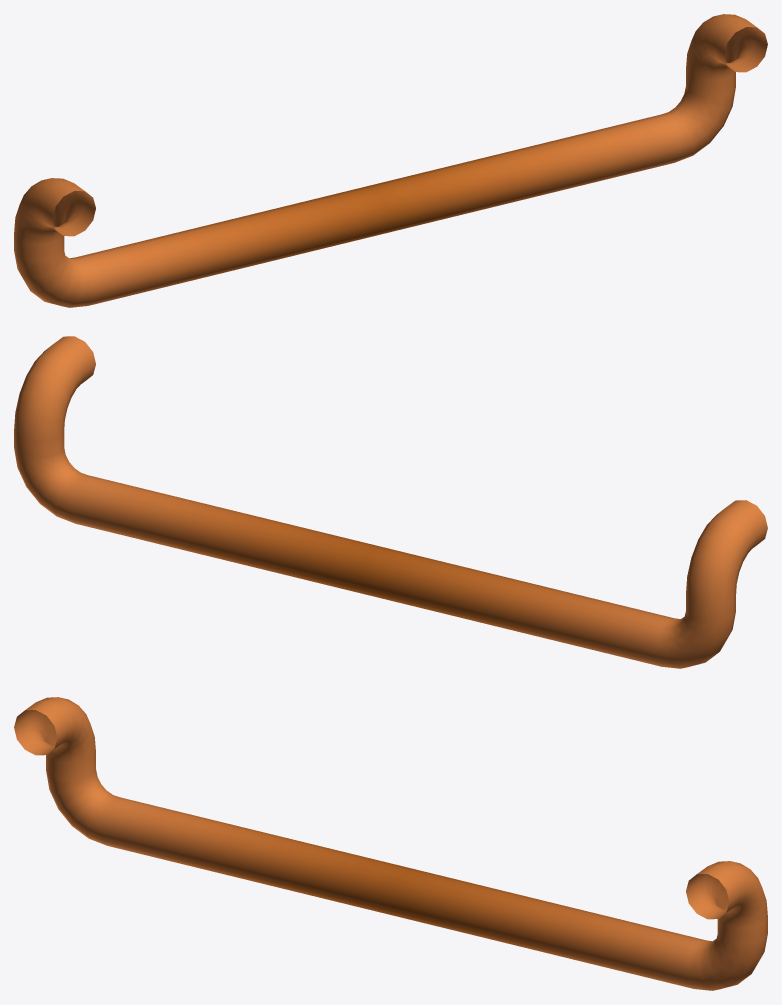
Rendered from pipeup_002.fbx.
3 renders of one model, top to bottom at view 1: azimuth 30°, elevation 25°; view 2: azimuth 150°, elevation 25°; view 3: azimuth 330°, elevation 25°, orthographic.
Visible parts, largest first — view 1: pipeup_002; view 2: pipeup_002; view 3: pipeup_002.
Part boxes in pixels (bbox=[...]): pipeup_002: bbox=[14, 14, 767, 307]; pipeup_002: bbox=[14, 336, 767, 668]; pipeup_002: bbox=[14, 697, 767, 990].
Size of the model in its own units: 2577 by 298 by 516.
